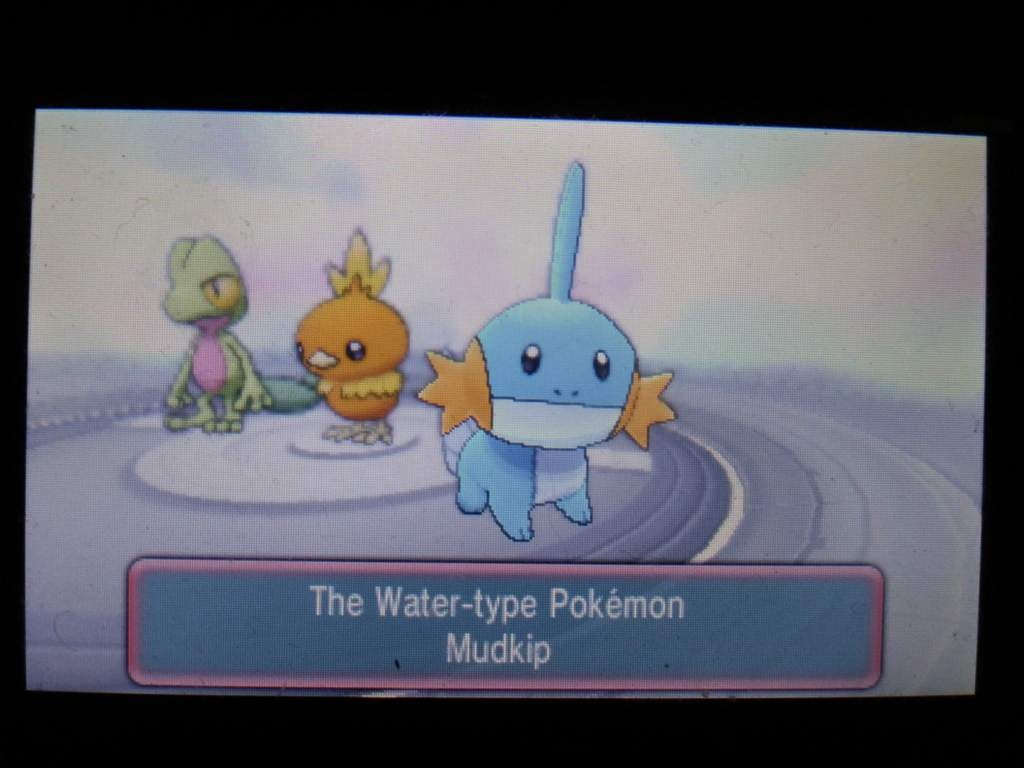mudkip: (424, 140, 690, 537)
